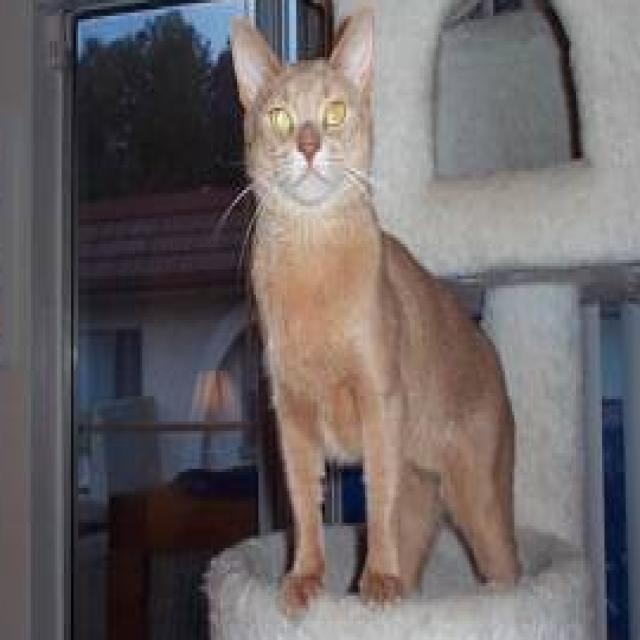Abyssinian: (227, 1, 529, 617)
